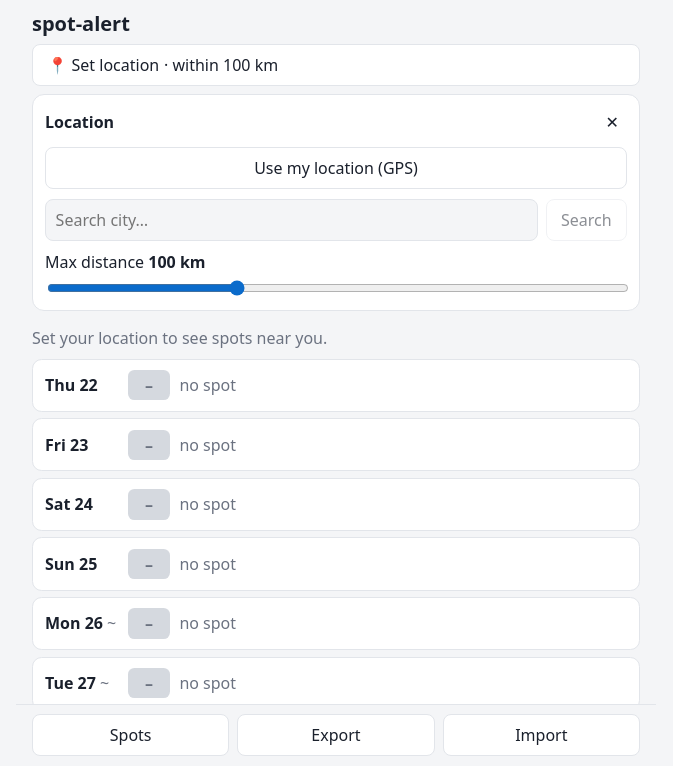
it: App › asks for a location first and lets you pick a city
Expected: the heading "Location" is shown, x1=45 y1=111 x2=114 y2=134
Type "Kiel" into the search field labelled "Search city". click: (291, 220)
box: x1=45 y1=199 x2=538 y2=241
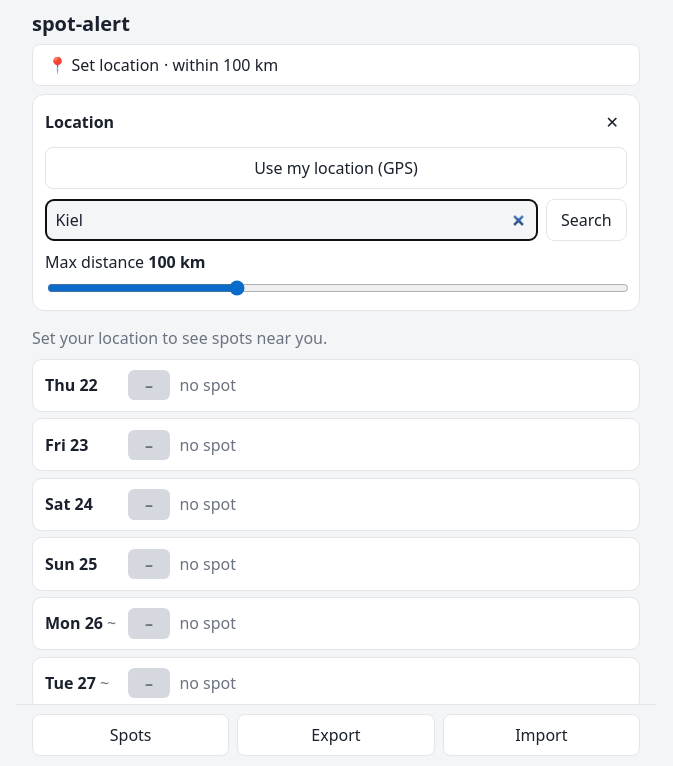
Click the button "Search". click: (586, 220)
box: x1=546 y1=199 x2=627 y2=241
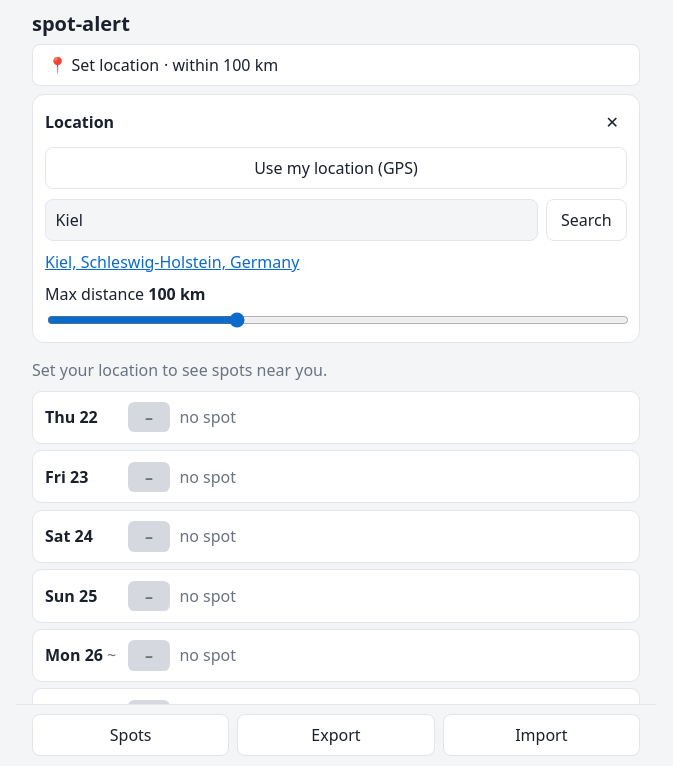
Click the button "Kiel, Schleswig-Holstein, Germany". click: (172, 262)
box: x1=45 y1=250 x2=299 y2=273
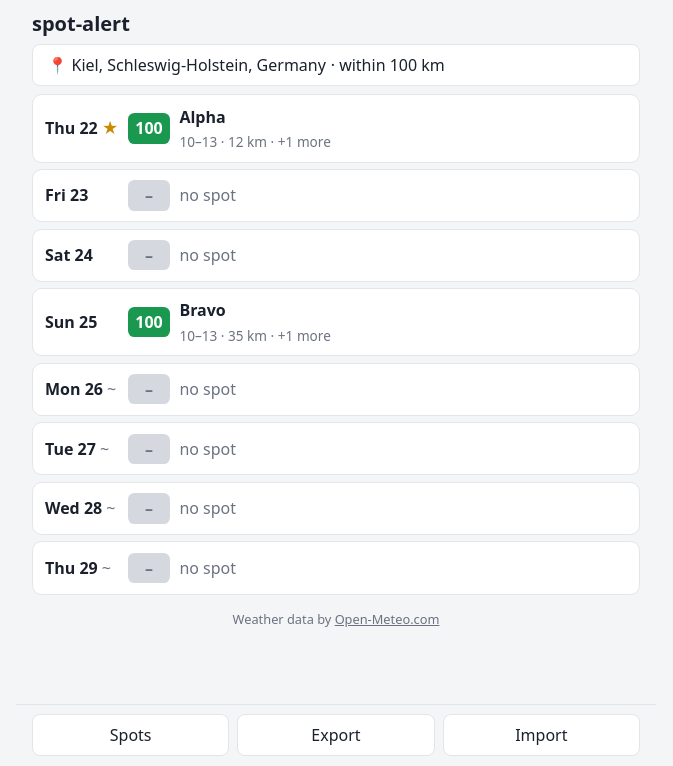
Expected: the button "location" is gone
Expected: the button "📍 Kiel, Schleswig-Holstein, Germany · within 100 km" is shown, x1=32 y1=44 x2=640 y2=86
Expected: the button "Thu 22★ 100 Alpha 10–13 · 12 km · +1 more" is shown, x1=32 y1=94 x2=640 y2=163
